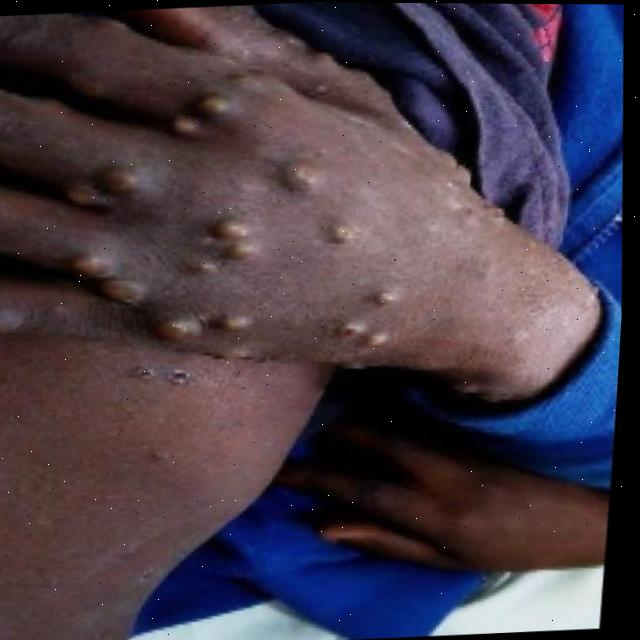Eczema: (40, 81, 550, 372)
